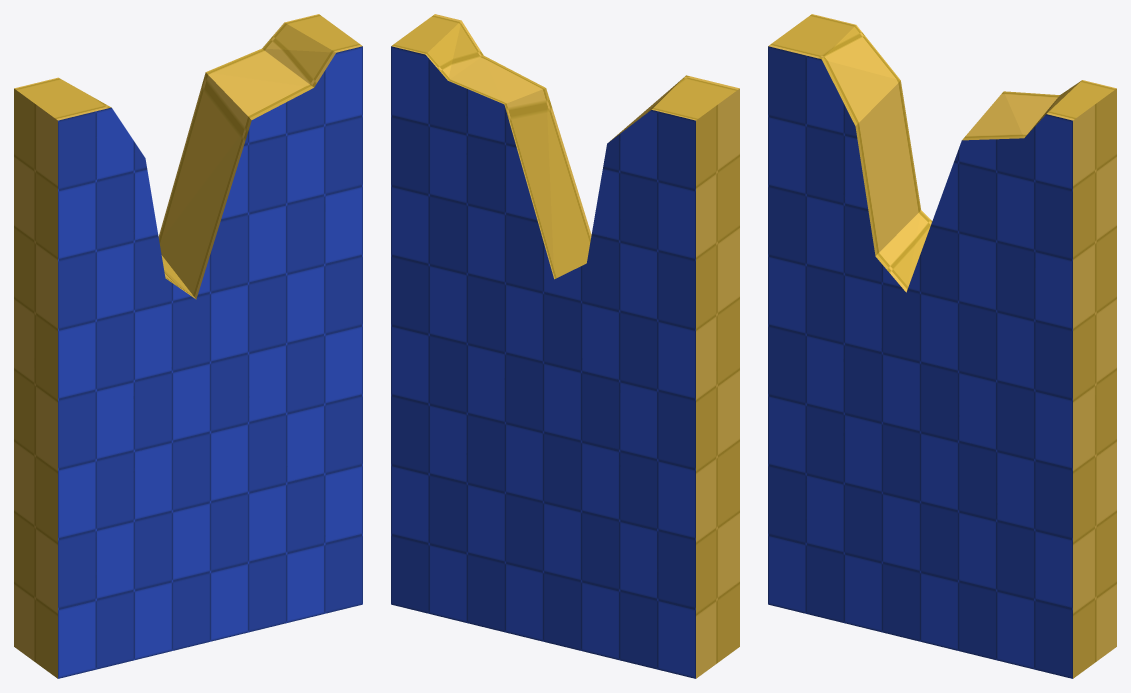
The model's file is WallBr2m.fbx.
3 renders of one model, left to right at view 1: azimuth 30°, elevation 25°; view 2: azimuth 150°, elevation 25°; view 3: azimuth 330°, elevation 25°, orthographic.
Visible parts, largest first — view 1: WallBr2m; view 2: WallBr2m; view 3: WallBr2m.
Part boxes in pixels (<box>): WallBr2m: <box>14,14,362,678</box>; WallBr2m: <box>391,14,739,678</box>; WallBr2m: <box>768,14,1116,678</box>.
Size of the model in its own units: 200 by 50 by 350.
